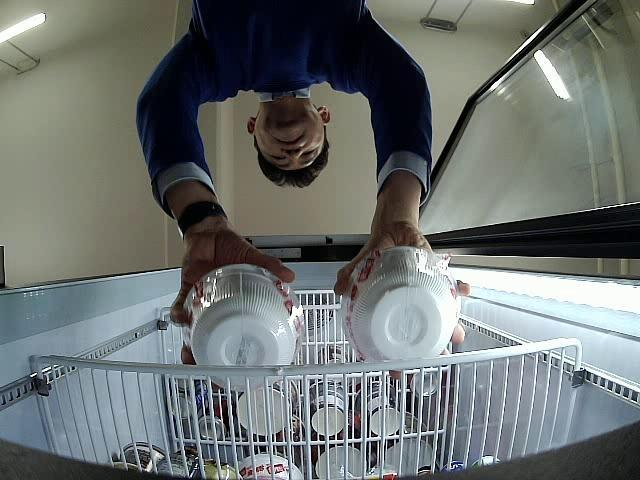09_yukGaeJang: (184, 264, 303, 390), (342, 247, 462, 362)
